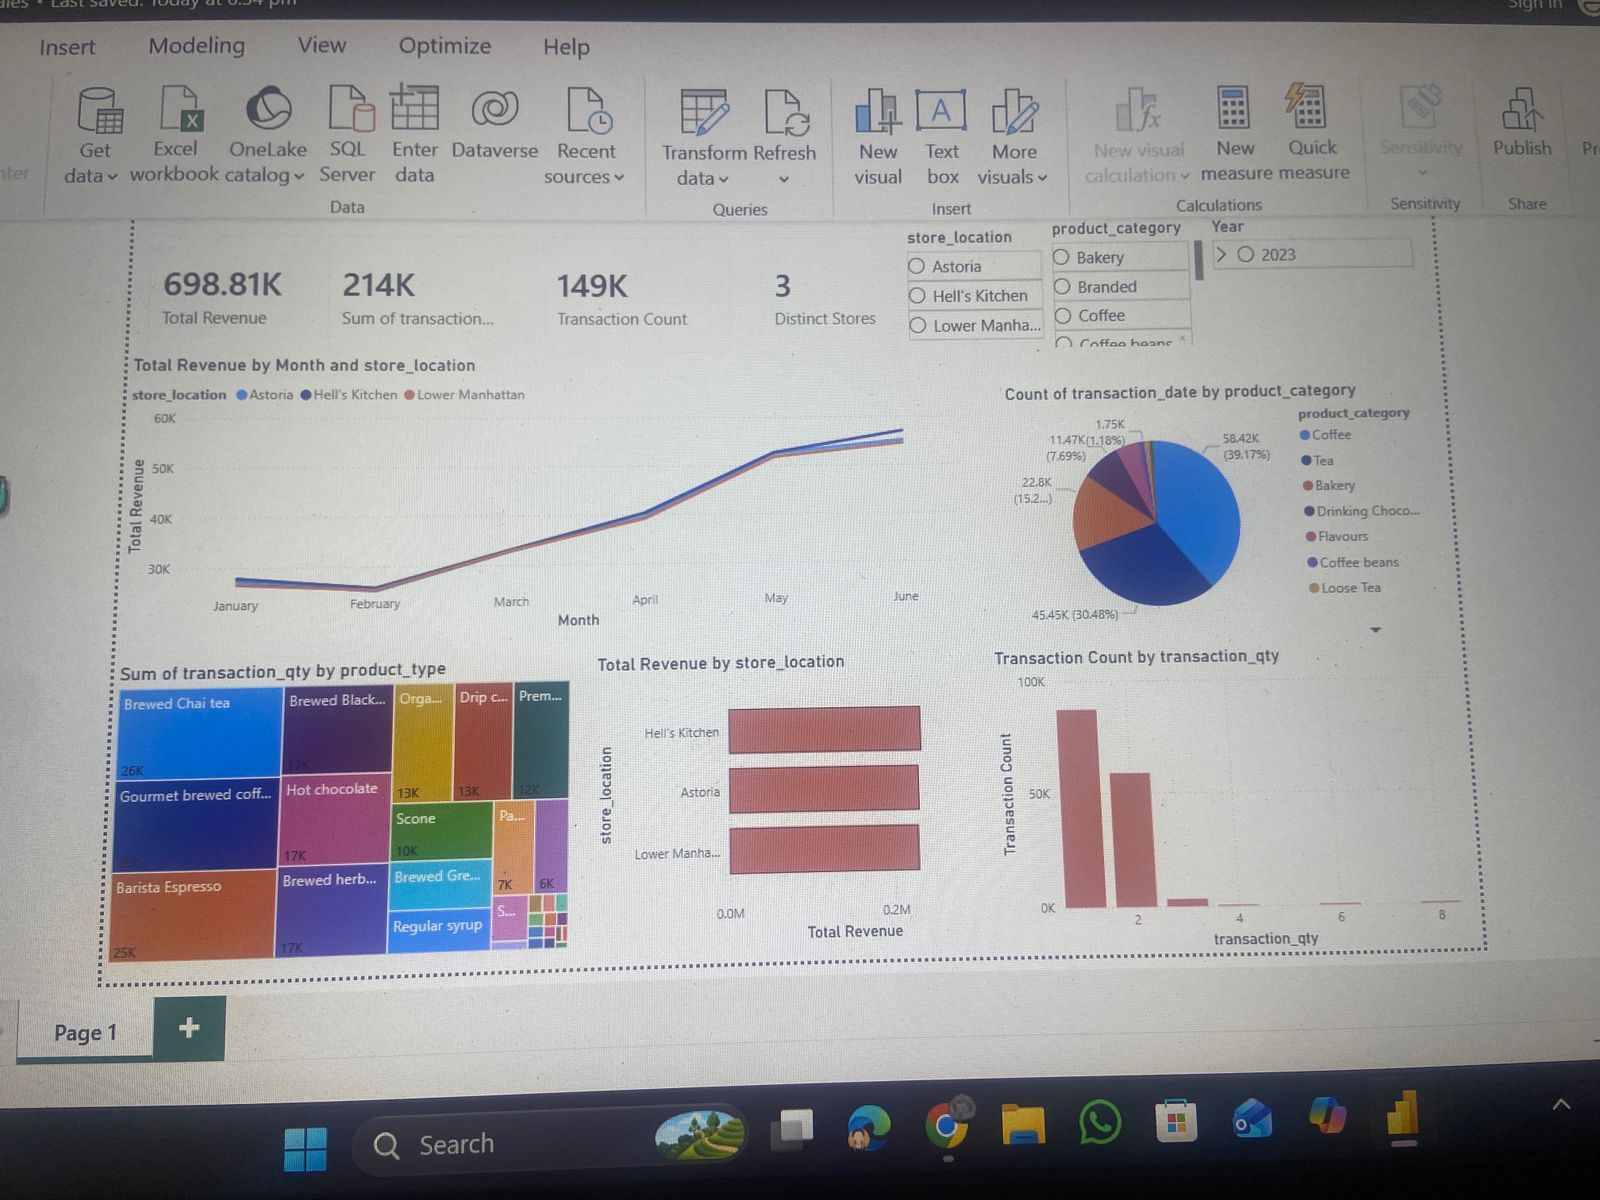

The dashboard page shown, as its layout file describes it:
{"tool":"powerbi","page":{"name":"Page 1","canvas":[1280,720],"ordinal":0},"visuals":[{"type":"pieChart","fields":{"Category":["Transactions.product_category"],"Y":["CountNonNull(Transactions.transaction_date)"]},"box":[841,168.2,423.3,262.7],"z":0},{"type":"clusteredBarChart","fields":{"Y":["Transactions.revenue"],"Category":["Transactions.store_location"]},"box":[436.5,430.9,383.6,275.9],"z":1000},{"type":"treemap","fields":{"Group":["Transactions.product_type"],"Values":["Sum(Transactions.transaction_qty)"]},"box":[0,430.9,421.4,275.9],"z":2000},{"type":"cardVisual","box":[0,20.8,270.2,177.6],"z":2001},{"type":"cardVisual","fields":{"Data":["Transactions.Total Revenue"]},"box":[0,0,217.3,151.2],"z":2002},{"type":"cardVisual","fields":{"Data":["Transactions.Transaction Count"]},"box":[374.2,0,217.3,151.2],"z":2003},{"type":"cardVisual","fields":{"Data":["Sum(Transactions.transaction_qty)"]},"box":[168.2,0,206,151.2],"z":2004},{"type":"cardVisual","fields":{"Data":["Transactions.Distinct Stores"]},"box":[587.7,0,172,151.2],"z":2005},{"type":"lineChart","fields":{"Category":["Transactions.transaction_date.Variation.Date Hierarchy.Month"],"Y":["Transactions.Total Revenue"],"Series":["Transactions.store_location"]},"box":[0,136.1,797.5,274],"z":2006},{"type":"columnChart","fields":{"Category":["Transactions.transaction_qty"],"Y":["Transactions.Transaction Count"]},"box":[820.2,430.9,444.1,289.1],"z":2007},{"type":"listSlicer","fields":{"Values":["Transactions.store_location"]},"box":[746.5,7.6,145.5,136.1],"z":2008},{"type":"listSlicer","fields":{"Values":["Transactions.product_category"]},"box":[892,0,160.6,136.1],"z":2009},{"type":"listSlicer","fields":{"Values":["Transactions.transaction_date.Variation.Date Hierarchy.Year","Transactions.transaction_date.Variation.Date Hierarchy.Quarter","Transactions.transaction_date.Variation.Date Hierarchy.Month","Transactions.transaction_date.Variation.Date Hierarchy.Day"]},"box":[1052.6,0,211.7,149.3],"z":2010}]}

Visuals, with their boxes on the page's 1280x720 design canvas (x1, y1, x2, y2). These are canvas units, not pixel positions in the 1600x1200 screenshot, which may show the page scaled, cropped or inside an application window:
pieChart - Transactions.product_category x CountNonNull(Transactions.transaction_date): BBox(841, 168, 1264, 431)
clusteredBarChart - Transactions.revenue x Transactions.store_location: BBox(436, 431, 820, 707)
treemap - Transactions.product_type x Sum(Transactions.transaction_qty): BBox(0, 431, 421, 707)
cardVisual: BBox(0, 21, 270, 198)
cardVisual - Transactions.Total Revenue: BBox(0, 0, 217, 151)
cardVisual - Transactions.Transaction Count: BBox(374, 0, 592, 151)
cardVisual - Sum(Transactions.transaction_qty): BBox(168, 0, 374, 151)
cardVisual - Transactions.Distinct Stores: BBox(588, 0, 760, 151)
lineChart - Transactions.transaction_date.Variation.Date Hierarchy.Month x Transactions.Total Revenue: BBox(0, 136, 798, 410)
columnChart - Transactions.transaction_qty x Transactions.Transaction Count: BBox(820, 431, 1264, 720)
listSlicer - Transactions.store_location: BBox(746, 8, 892, 144)
listSlicer - Transactions.product_category: BBox(892, 0, 1053, 136)
listSlicer - Transactions.transaction_date.Variation.Date Hierarchy.Year x Transactions.transaction_date.Variation.Date Hierarchy.Quarter: BBox(1053, 0, 1264, 149)
